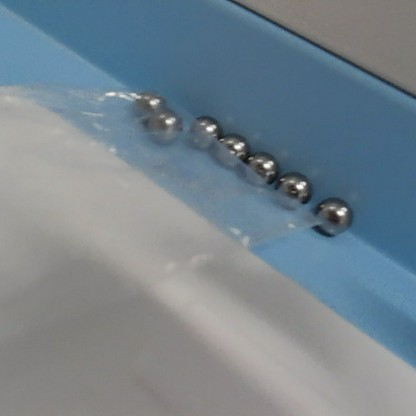ironball: (308, 190, 354, 240), (208, 123, 249, 170), (272, 166, 312, 210), (145, 107, 185, 147), (184, 110, 221, 146), (243, 149, 278, 185), (134, 87, 169, 117)
